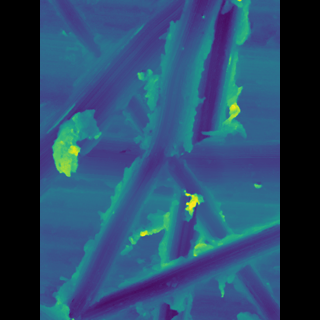Loch: (87, 1, 198, 319), (70, 0, 176, 207), (100, 218, 249, 320), (184, 0, 224, 147)
